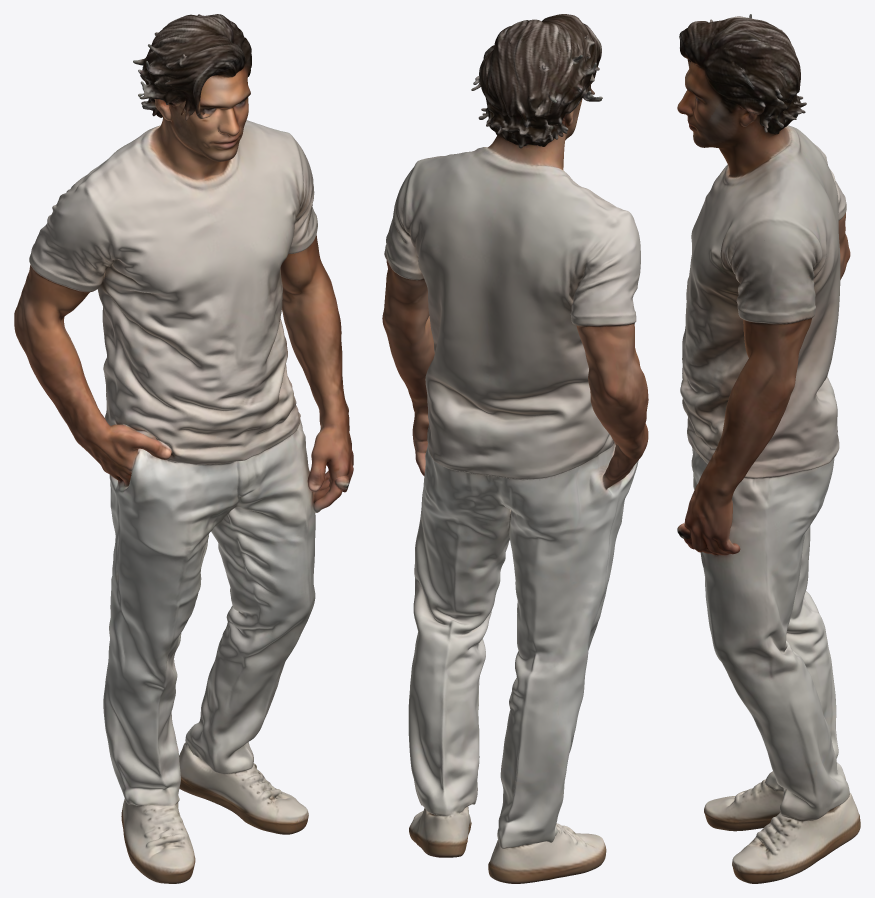
File: male+fashion+model+3d.glb
3 renders of one model, left to right at view 1: azimuth 30°, elevation 25°; view 2: azimuth 150°, elevation 25°; view 3: azimuth 270°, elevation 25°, orthographic. The views are drawn at different scales.
Visible parts, largest first — view 1: tripo_node_b2220330-84fe-415b-a8c8-baba55086f46; view 2: tripo_node_b2220330-84fe-415b-a8c8-baba55086f46; view 3: tripo_node_b2220330-84fe-415b-a8c8-baba55086f46.
Boxes of the visible parts, left/top/right/bottom form: tripo_node_b2220330-84fe-415b-a8c8-baba55086f46: left=14, top=14, right=353, bottom=883; tripo_node_b2220330-84fe-415b-a8c8-baba55086f46: left=382, top=14, right=648, bottom=883; tripo_node_b2220330-84fe-415b-a8c8-baba55086f46: left=677, top=14, right=860, bottom=883.
Size of the model in its own units: 0.3486 by 1 by 0.2026.
1 material, 1 textured.
